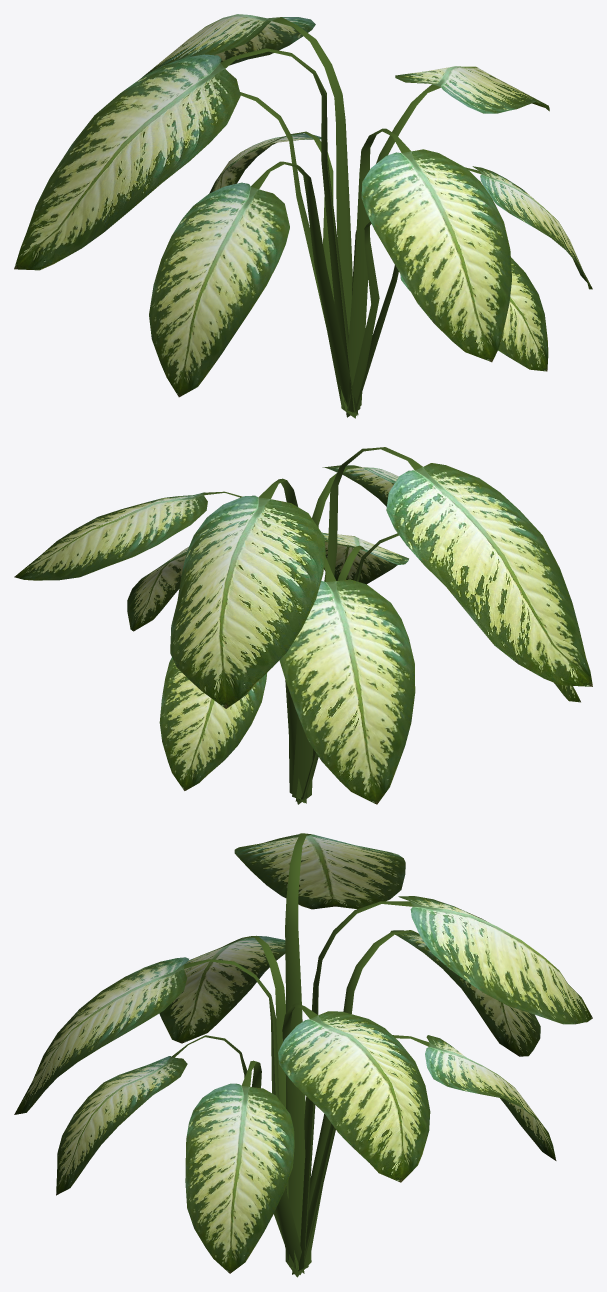
Rendered from Dieffenbachia2.fbx.
3 renders of one model, top to bottom at view 1: azimuth 30°, elevation 25°; view 2: azimuth 150°, elevation 25°; view 3: azimuth 270°, elevation 25°, orthographic. The views are drawn at different scales.
Parts seen in each view (by area): view 1: Dieffenbachia2; view 2: Dieffenbachia2; view 3: Dieffenbachia2.
Part boxes in pixels (x1,y1,x2,y2): Dieffenbachia2: (14, 14, 592, 418); Dieffenbachia2: (14, 447, 592, 804); Dieffenbachia2: (14, 833, 592, 1277).
Bounding box in the file's own units: 76.64 × 50.32 × 68.
